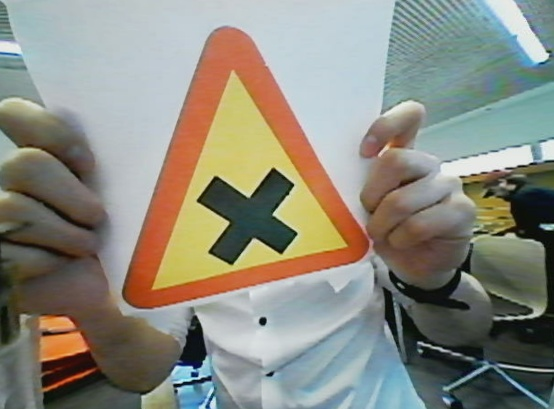junction: (114, 25, 369, 321)
